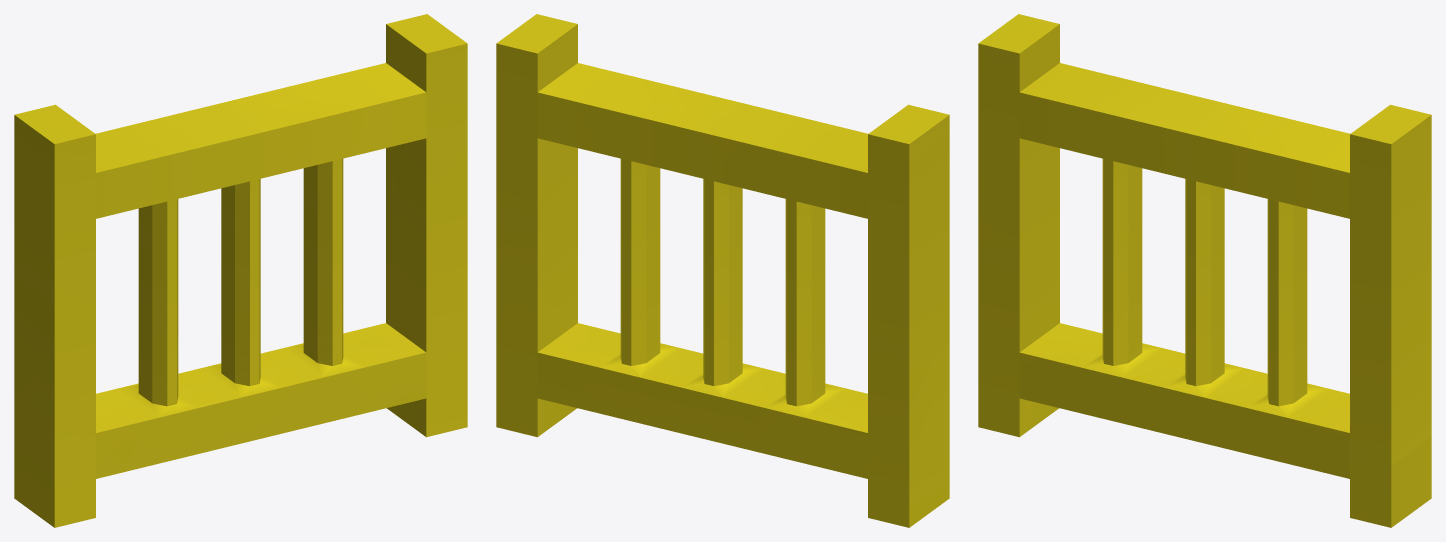
Rendered from BarKalitka_grp 1.fbx.
The picture shows the model from 3 angles, left to right: view 1: azimuth 30°, elevation 25°; view 2: azimuth 150°, elevation 25°; view 3: azimuth 330°, elevation 25°; orthographic projection.
Parts seen in each view (by area): view 1: barKalitka; view 2: barKalitka; view 3: barKalitka.
Part boxes in pixels (box(x1,y1,x2,y2)): barKalitka: box(14, 14, 467, 527); barKalitka: box(496, 14, 949, 527); barKalitka: box(978, 14, 1431, 527).
Bounding box in the file's own units: 5.92 × 5.25 × 1.
Materials: 1 (1 with a texture image).
